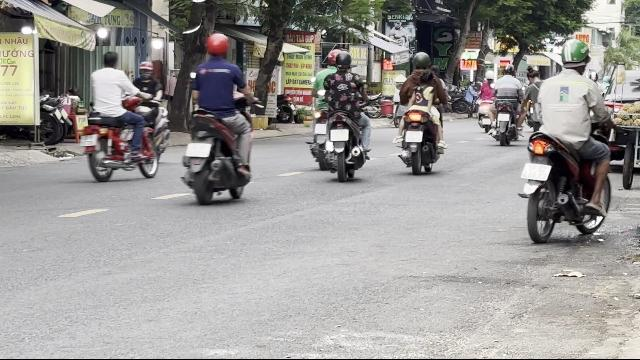helmet: (558, 38, 590, 74), (204, 32, 230, 58), (410, 51, 430, 71), (334, 49, 352, 70), (138, 61, 154, 79), (326, 49, 340, 68)
licenseplate: (522, 164, 550, 180), (187, 143, 211, 157), (329, 129, 348, 141), (406, 130, 422, 142), (79, 136, 97, 146)
motorcyclist: (517, 37, 617, 247), (180, 32, 256, 204), (78, 50, 160, 184), (310, 47, 372, 180), (392, 50, 448, 174)
nohelmet: (101, 51, 119, 69), (420, 69, 434, 87)
